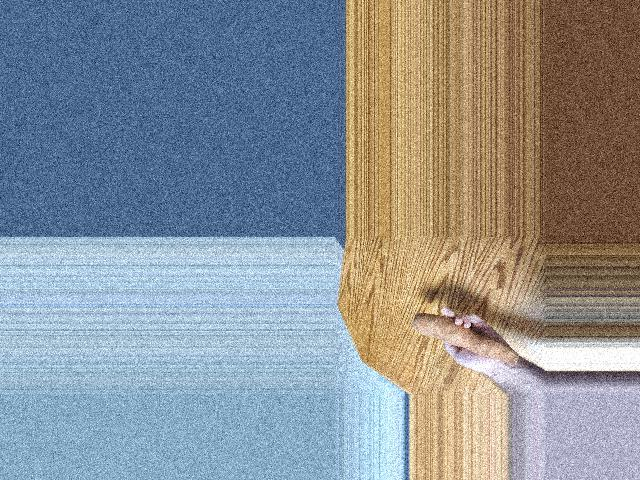sweet_potato: (416, 320, 519, 365)
